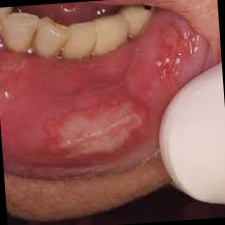Ulcer: (47, 100, 151, 162)
